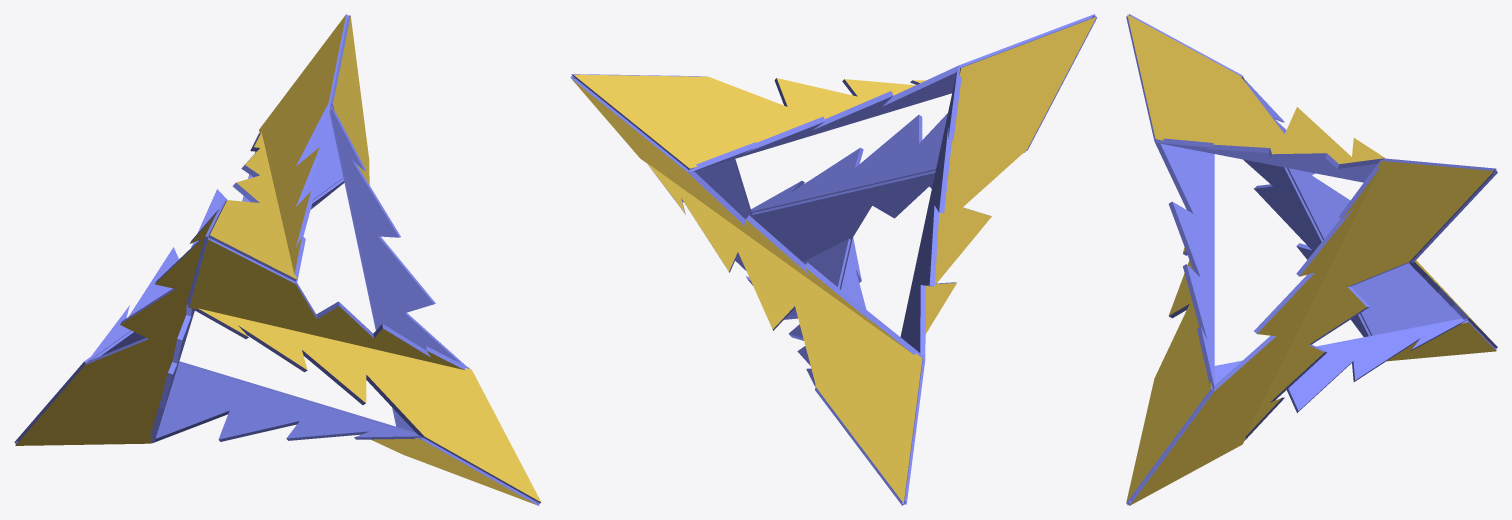
File: Tetrahedron2.glb
The picture shows the model from 3 angles, left to right: view 1: azimuth 30°, elevation 25°; view 2: azimuth 150°, elevation 25°; view 3: azimuth 270°, elevation 25°; orthographic projection. The views are drawn at different scales.
Parts seen in each view (by area): view 1: root; view 2: root; view 3: root.
Part boxes in pixels (left/top/right/bottom): root: left=14, top=14, right=541, bottom=505; root: left=570, top=14, right=1097, bottom=505; root: left=1126, top=14, right=1497, bottom=505.
Bounding box in the file's own units: 0.7144 × 0.7144 × 0.7144.
